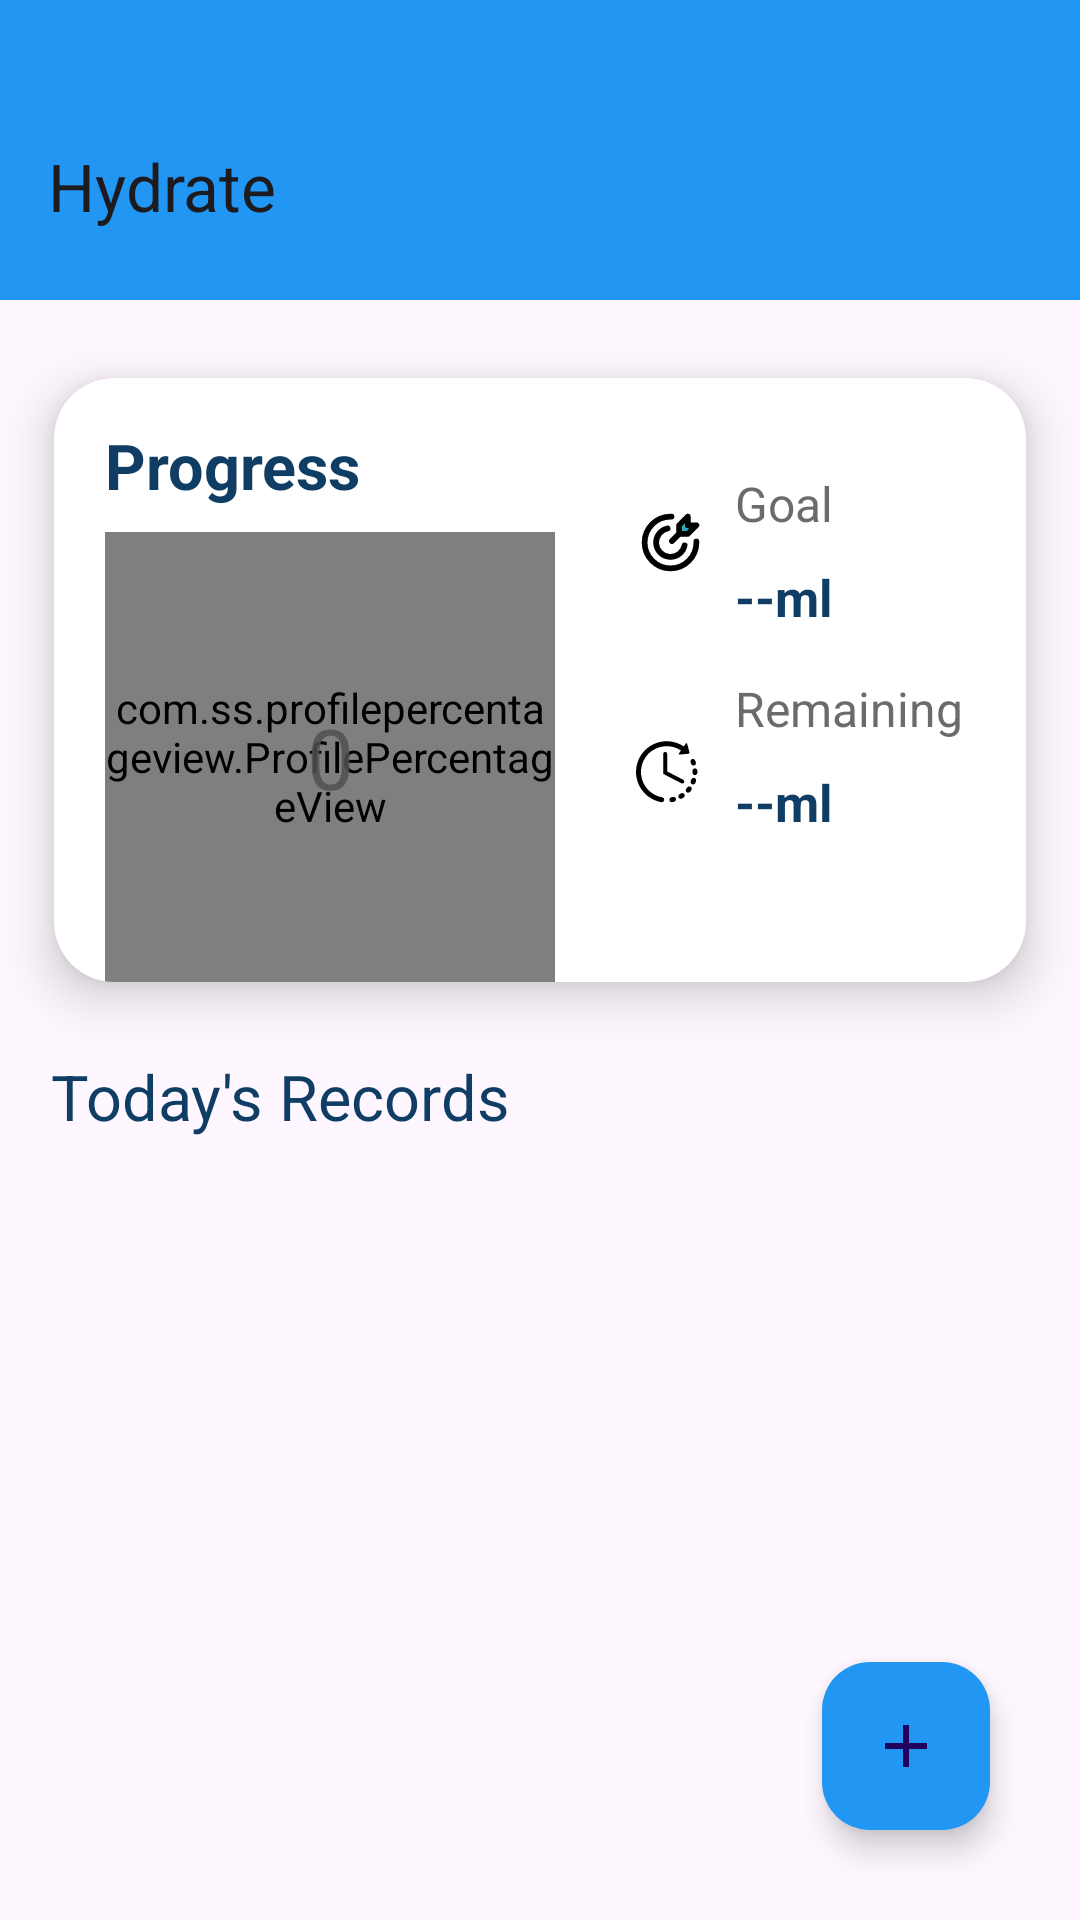

Icon click points for this 1080*1920 phone screenshot, format point (x, y):
add: point (906, 1746)
Remainder: point (667, 772)
